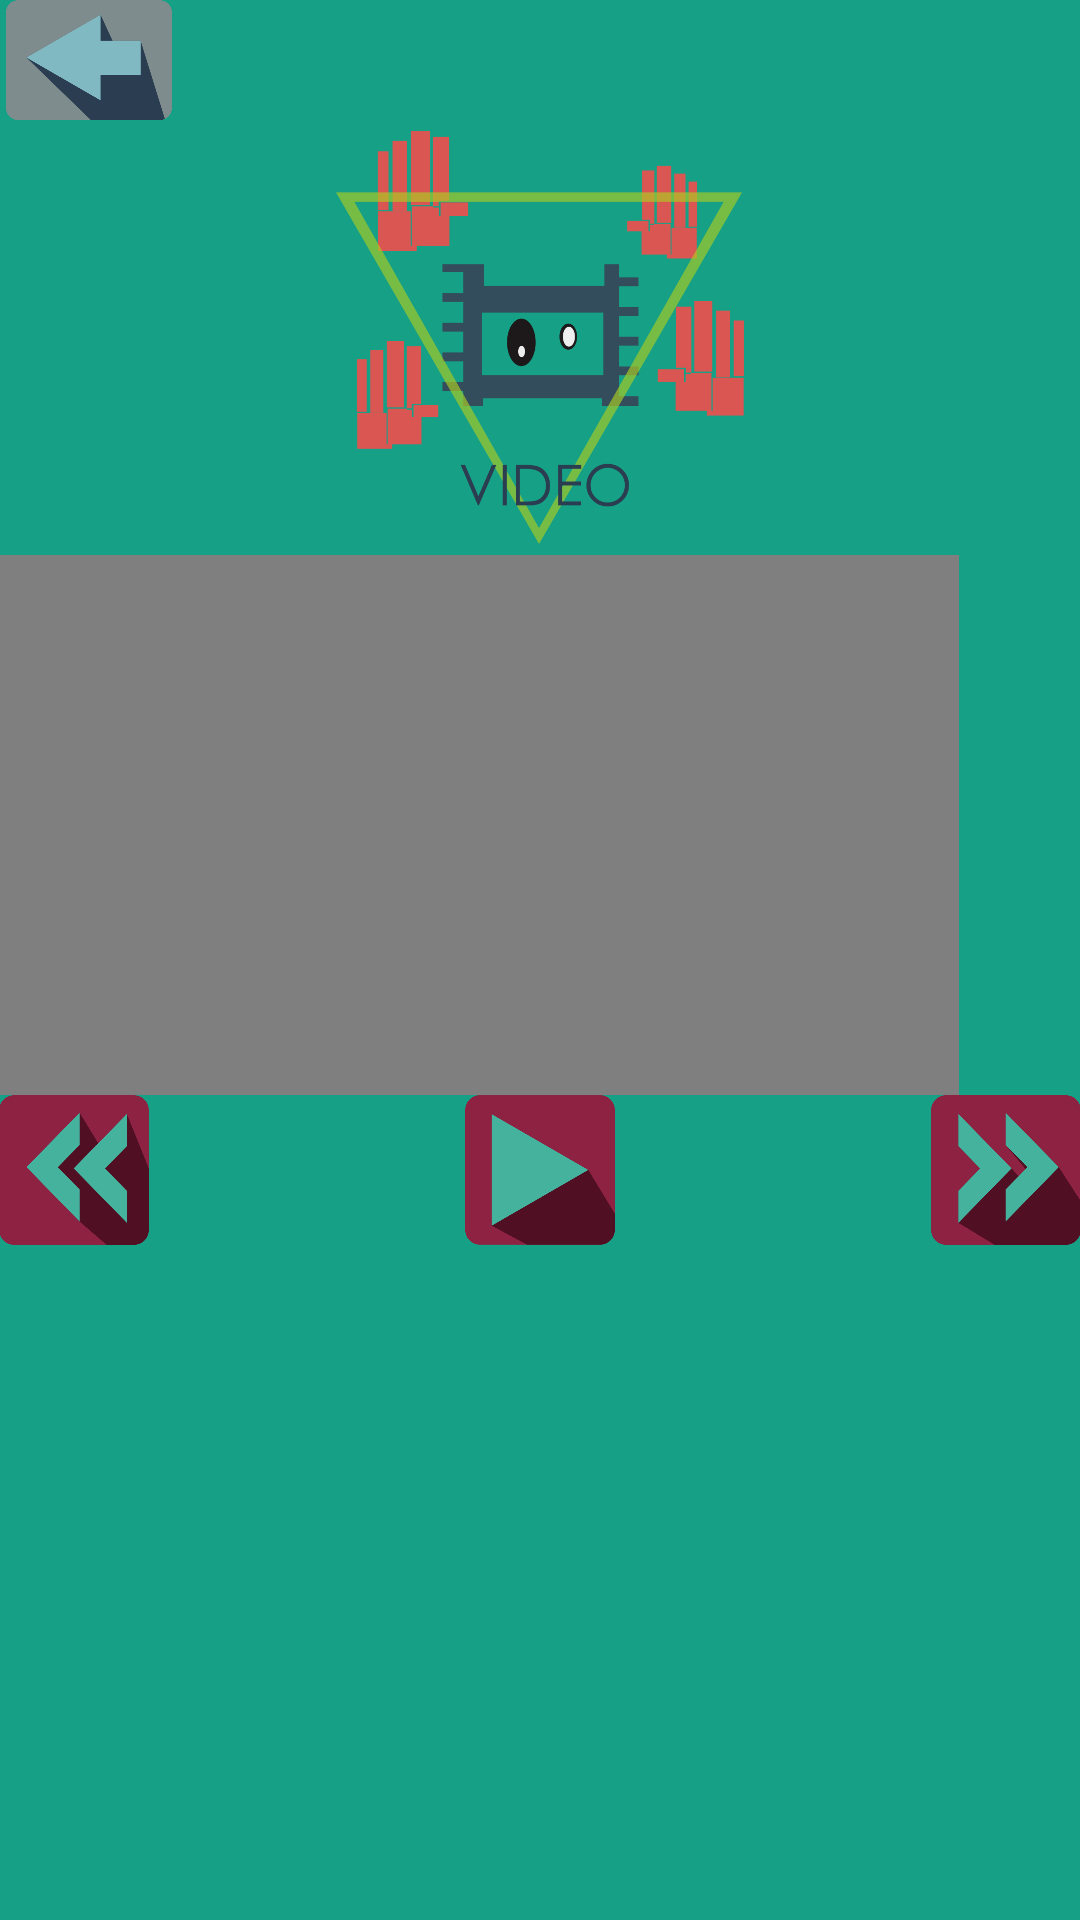

Locate icon controls on the screen. Image size 1080x1920, boxes as (x1, y1, x2, y2).
back: (6, 0, 172, 120)
next: (931, 1095, 1080, 1245)
play: (465, 1095, 615, 1245)
prev: (0, 1095, 149, 1245)
